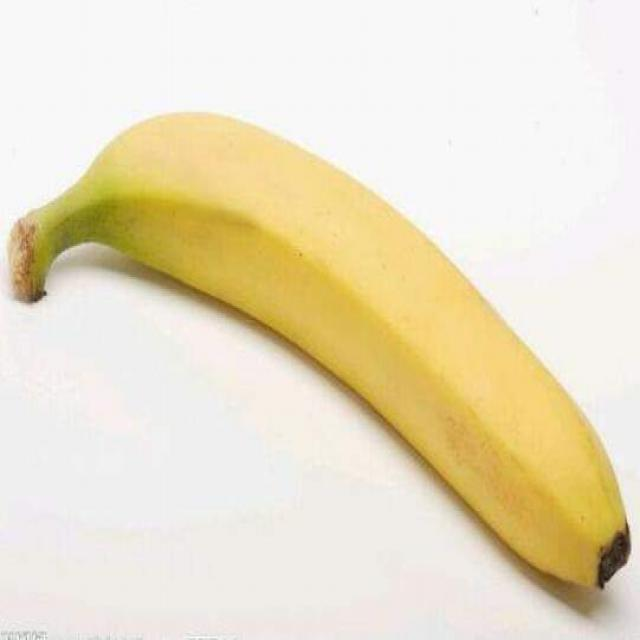Banana: (5, 105, 634, 604)
